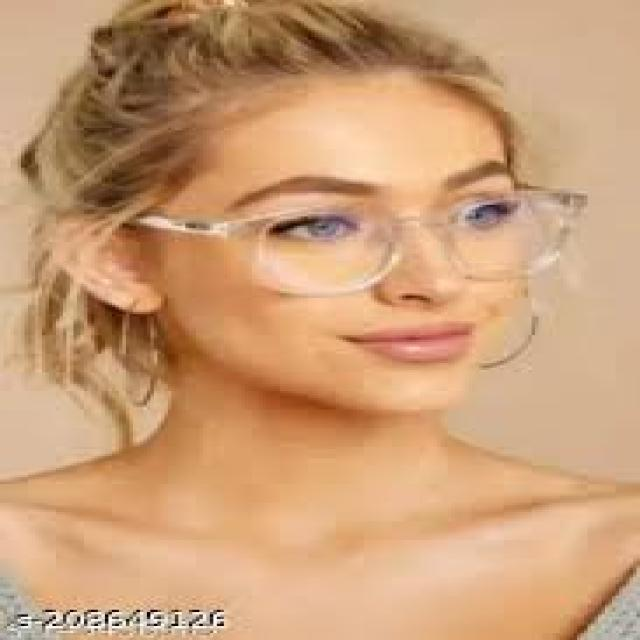specticles: (88, 179, 608, 304)
